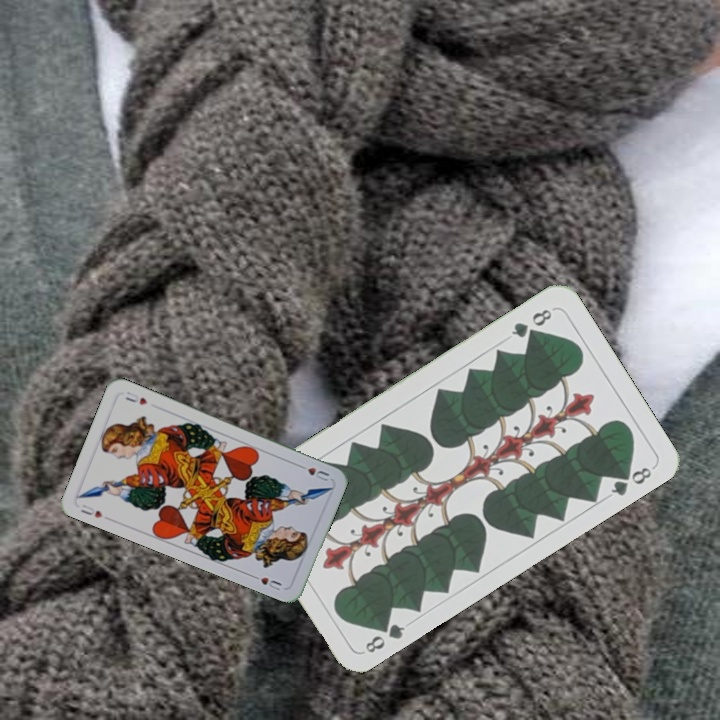G8: (361, 615, 408, 656), (507, 305, 557, 341)
HU: (294, 460, 332, 484), (77, 500, 105, 521)
